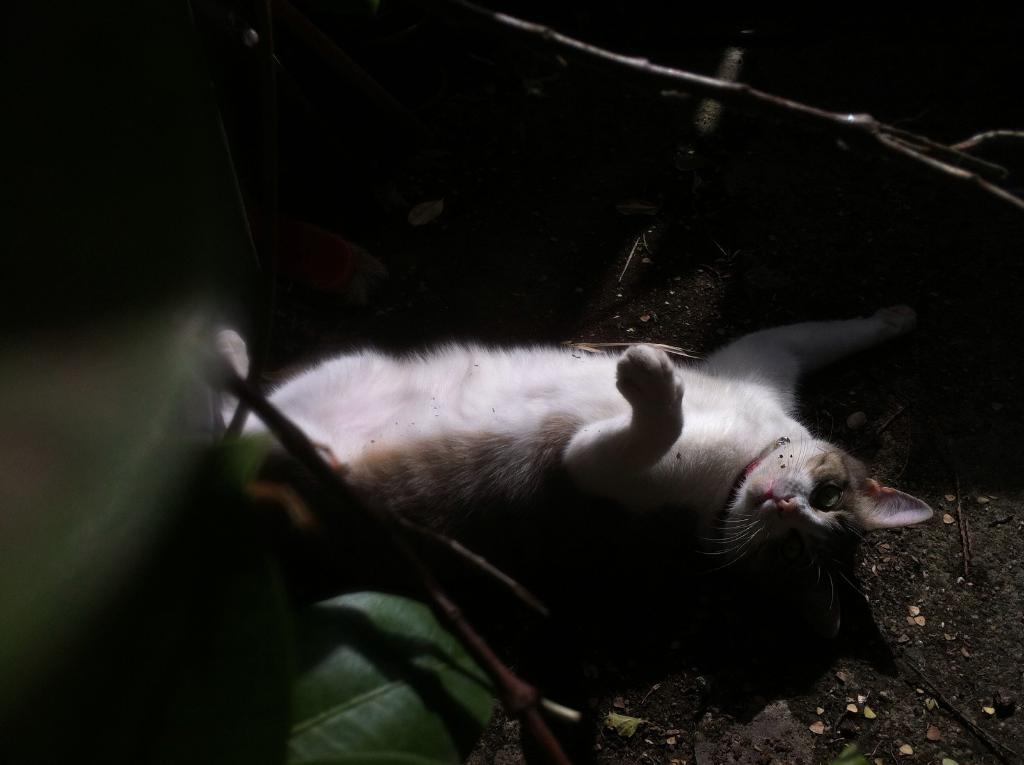Animal: (221, 301, 935, 607)
